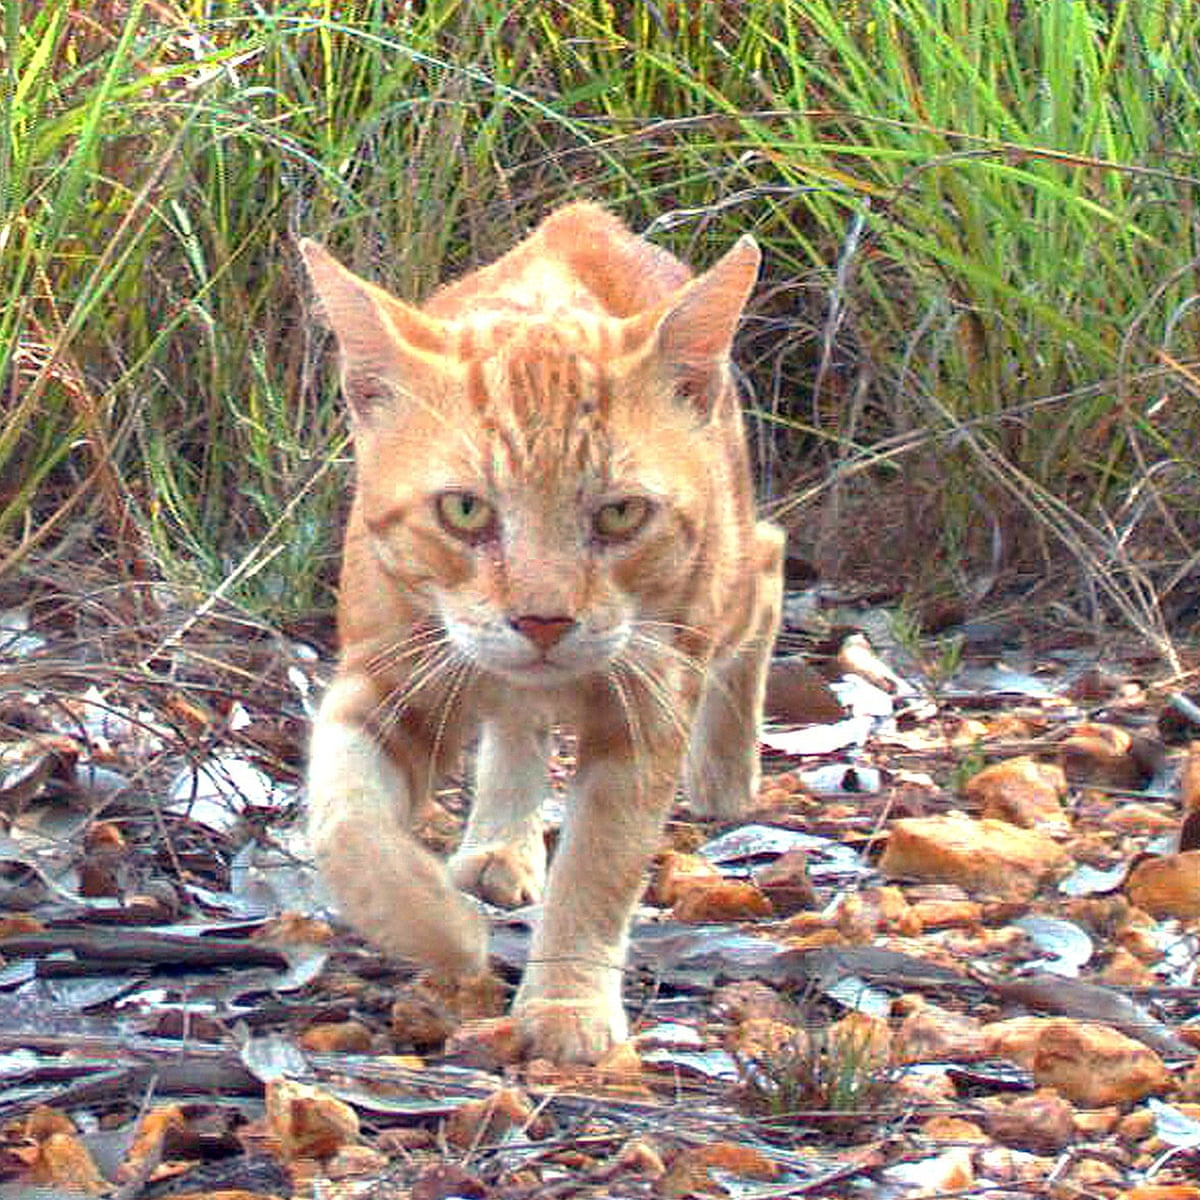Cat: (268, 182, 803, 1105)
